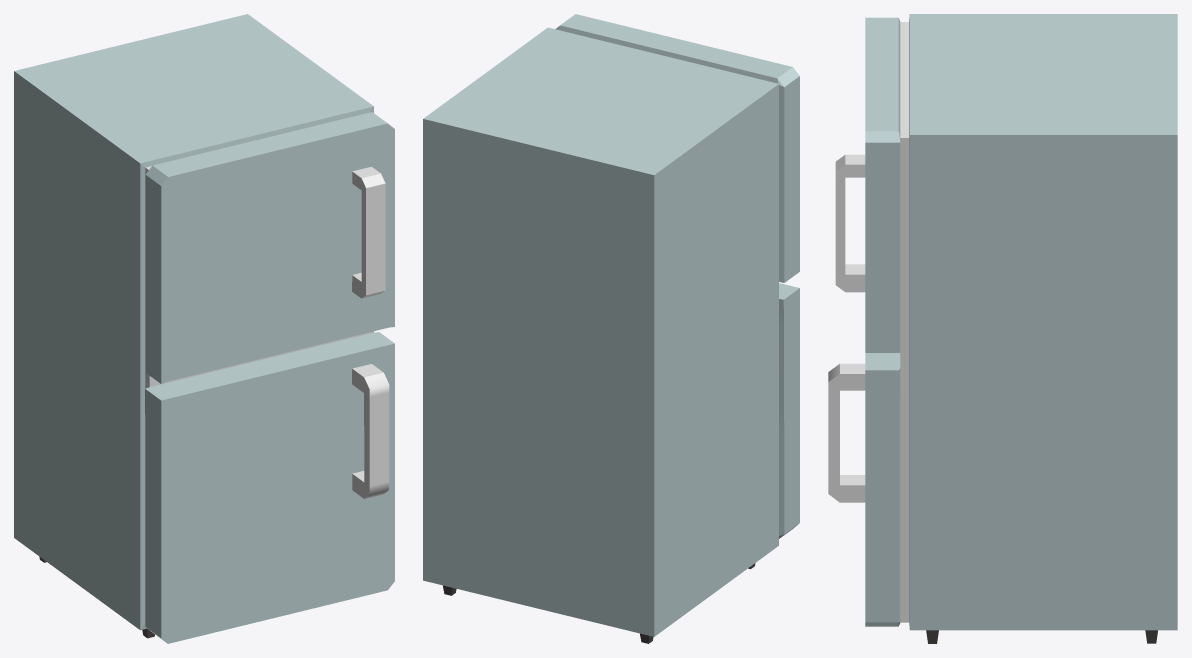
File: Refri PR1.fbx
3 renders of one model, left to right at view 1: azimuth 30°, elevation 25°; view 2: azimuth 150°, elevation 25°; view 3: azimuth 270°, elevation 25°, orthographic. The views are drawn at different scales.
Visible parts, largest first — view 1: Refri1_PR1; view 2: Refri1_PR1; view 3: Refri1_PR1.
Part boxes in pixels (x1,y1,x2,y2): Refri1_PR1: (14,14,394,643); Refri1_PR1: (423,14,799,643); Refri1_PR1: (828,14,1177,643).
Size of the model in its own units: 1.71 by 3.38 by 2.08.
